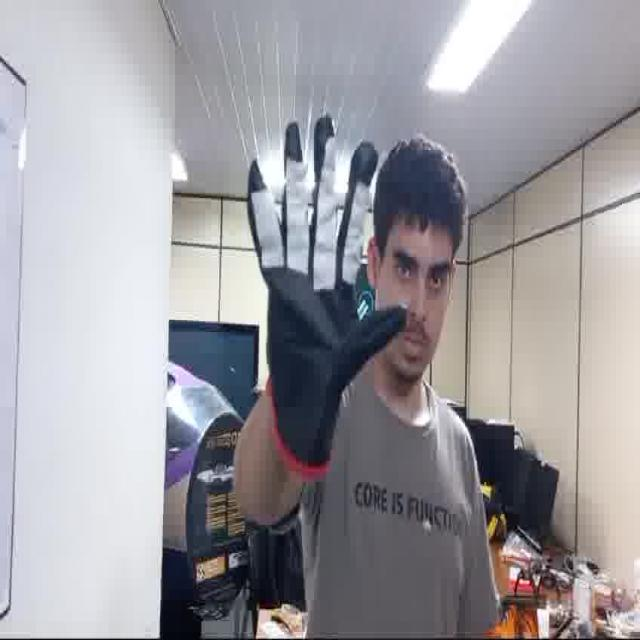Gloves: (248, 114, 408, 475)
